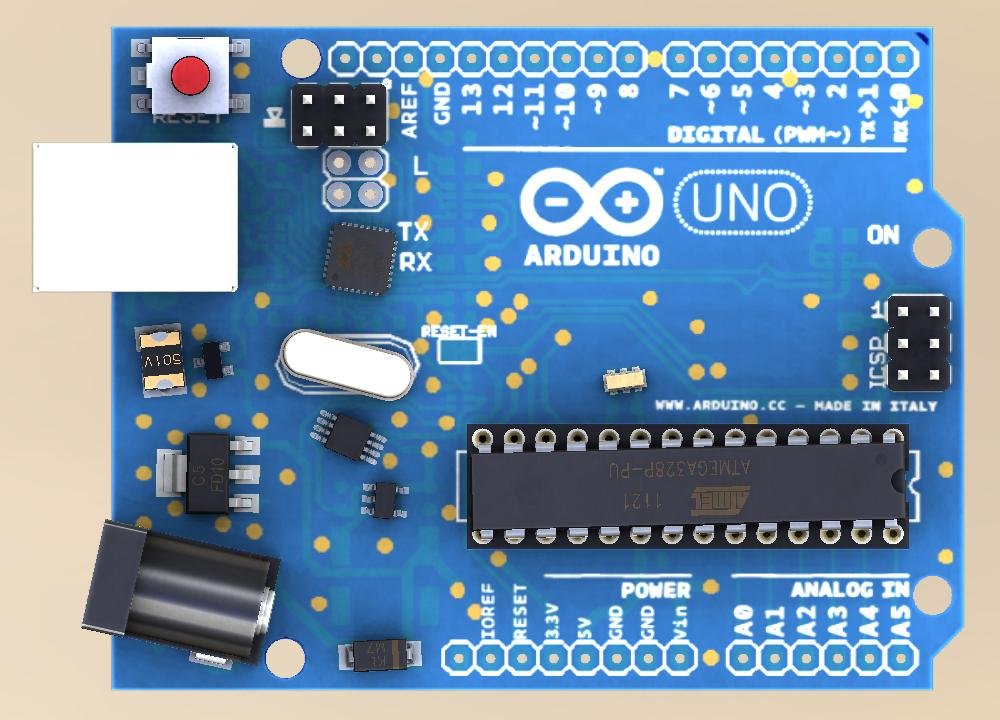16MHz Crystal: (596, 360, 654, 402)
ATMEL328P: (464, 421, 911, 551)
ATMega16u2: (320, 216, 400, 297)
Crystal: (277, 326, 417, 403)
Fuse: (131, 323, 189, 401)
LMV358: (351, 473, 419, 530)
M7 diode: (331, 630, 425, 678)
PIN Header: (887, 290, 954, 394), (290, 82, 390, 148)
Power: (79, 517, 281, 669)
Regulator: (131, 416, 278, 532)
Reset: (126, 33, 255, 118)
SSOT3: (193, 337, 238, 385)
USB: (30, 137, 246, 298)
lp2985: (310, 406, 387, 469)
